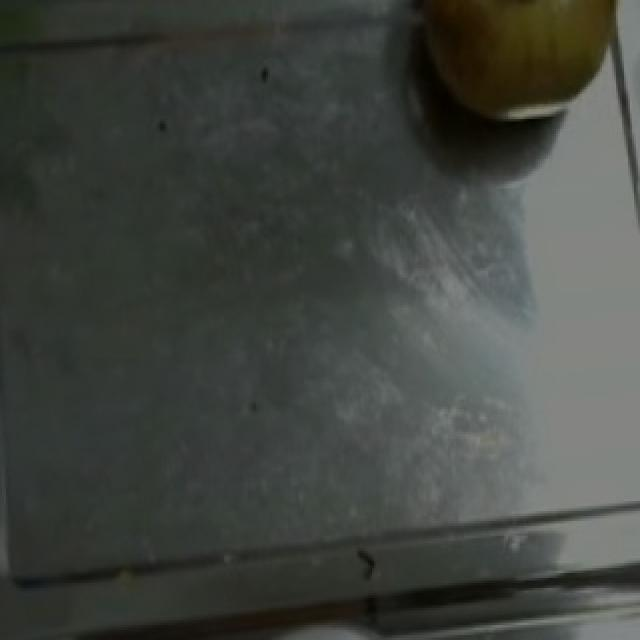fruit: (408, 2, 636, 136)
